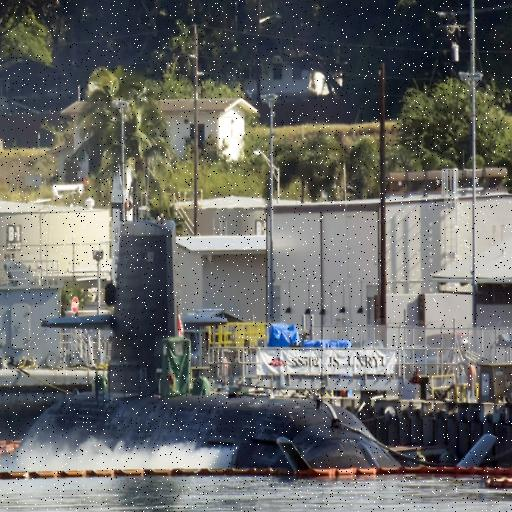submarine: (21, 224, 500, 472)
